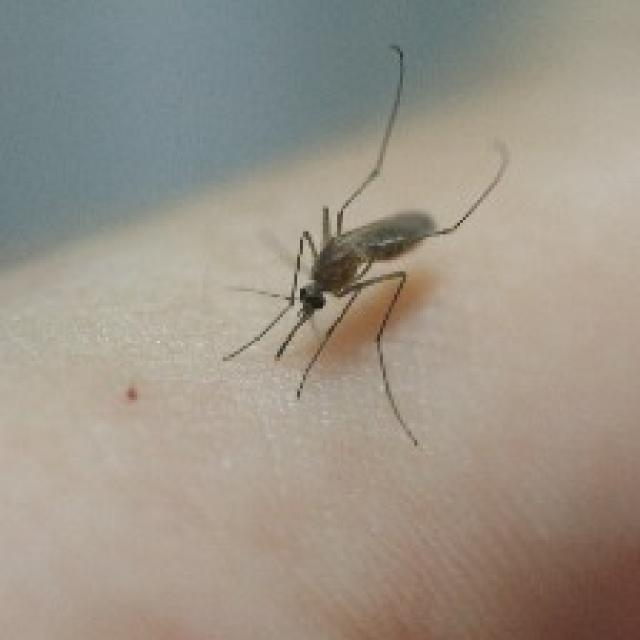culex: (220, 40, 509, 446)
